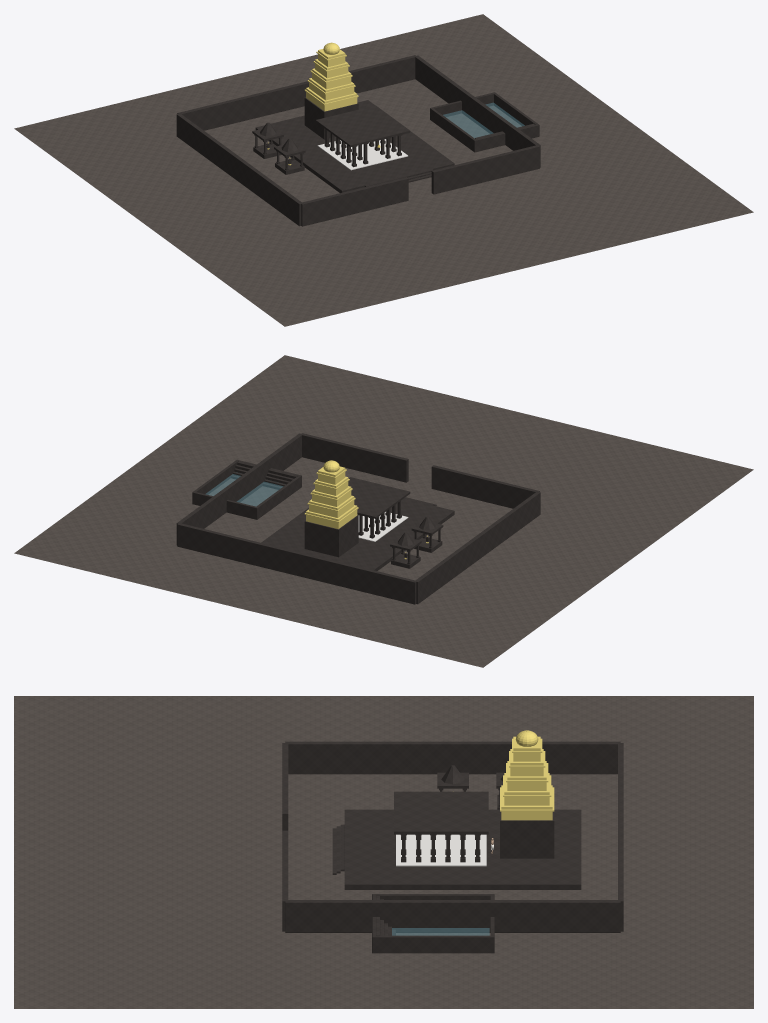
Rendered from kanchipuram_kamakshi_kshetra_full.glb.
The picture shows the model from 3 angles, top to bottom: view 1: azimuth 30°, elevation 25°; view 2: azimuth 150°, elevation 25°; view 3: azimuth 270°, elevation 25°; orthographic projection. The views are drawn at different scales.
Parts seen in each view (by area): view 1: Ground_Main, Adhisthana_Platform, Prakara_Kamakshi_N, Mandapa, Prakara_Kamakshi_W, Prakara_Kamakshi_E, Prakara_Kamakshi_S_R, Prakara_Kamakshi_S_L, Panchaganga_Tank_Water, Garbhagriha, Bhairava_Shrine, Ganesha_Shrine (+4 smaller); view 2: Ground_Main, Prakara_Kamakshi_N, Adhisthana_Platform, Prakara_Kamakshi_W, Prakara_Kamakshi_E, Prakara_Kamakshi_S_R, Mandapa, Prakara_Kamakshi_S_L, Garbhagriha, Panchaganga_Tank_Water, Ganesha_Shrine, Bhairava_Shrine (+3 smaller); view 3: Ground_Main, Adhisthana_Platform, Prakara_Kamakshi_E, Prakara_Kamakshi_W, Mandapa, Panchaganga_Tank_Wall_E, Garbhagriha, Prakara_Kamakshi_N, Golden_Vimanam_Tier_1, Panchaganga_Tank_Water, Golden_Vimanam_Tier_2, Panchaganga_Tank_Wall_W (+5 smaller).
Part boxes in pixels (left/top/right/bottom): Ground_Main: left=14, top=14, right=753, bottom=326; Adhisthana_Platform: left=255, top=100, right=454, bottom=192; Prakara_Kamakshi_N: left=177, top=55, right=416, bottom=130; Mandapa: left=315, top=105, right=410, bottom=170; Prakara_Kamakshi_W: left=176, top=113, right=301, bottom=226; Prakara_Kamakshi_E: left=415, top=55, right=540, bottom=167; Prakara_Kamakshi_S_R: left=431, top=145, right=539, bottom=194; Prakara_Kamakshi_S_L: left=301, top=177, right=408, bottom=226; Panchaganga_Tank_Water: left=443, top=103, right=524, bottom=137; Garbhagriha: left=304, top=97, right=358, bottom=139; Bhairava_Shrine: left=274, top=138, right=305, bottom=174; Ganesha_Shrine: left=252, top=122, right=283, bottom=158; Ground_Main: left=14, top=355, right=753, bottom=667; Prakara_Kamakshi_N: left=177, top=523, right=416, bottom=604; Adhisthana_Platform: left=261, top=498, right=454, bottom=570; Prakara_Kamakshi_W: left=415, top=491, right=540, bottom=604; Prakara_Kamakshi_E: left=176, top=433, right=301, bottom=545; Prakara_Kamakshi_S_R: left=300, top=433, right=408, bottom=482; Mandapa: left=348, top=477, right=410, bottom=541; Prakara_Kamakshi_S_L: left=431, top=465, right=539, bottom=508; Garbhagriha: left=304, top=515, right=358, bottom=557; Panchaganga_Tank_Water: left=206, top=474, right=282, bottom=506; Ganesha_Shrine: left=390, top=532, right=421, bottom=568; Bhairava_Shrine: left=411, top=516, right=443, bottom=552; Ground_Main: left=14, top=696, right=753, bottom=1008; Adhisthana_Platform: left=344, top=809, right=581, bottom=889; Prakara_Kamakshi_E: left=285, top=900, right=620, bottom=932; Prakara_Kamakshi_W: left=285, top=741, right=620, bottom=774; Mandapa: left=394, top=791, right=488, bottom=866; Panchaganga_Tank_Wall_E: left=374, top=935, right=492, bottom=953; Garbhagriha: left=500, top=811, right=554, bottom=858; Prakara_Kamakshi_N: left=618, top=743, right=623, bottom=931; Golden_Vimanam_Tier_1: left=501, top=785, right=552, bottom=820; Panchaganga_Tank_Water: left=392, top=928, right=489, bottom=935; Golden_Vimanam_Tier_2: left=504, top=773, right=549, bottom=805; Panchaganga_Tank_Wall_W: left=376, top=894, right=492, bottom=899.
Bounding box in the file's own units: 75 × 13.57 × 75.
16 materials, 2 textured.
